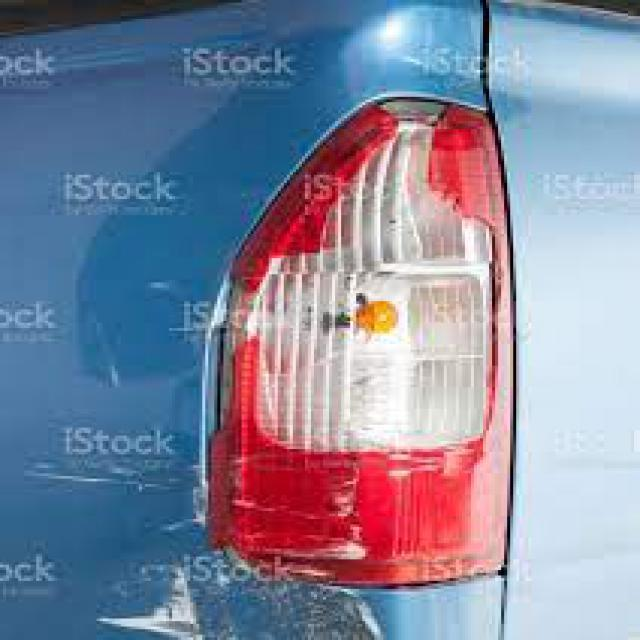Taillight-Damage: (206, 78, 523, 592)
